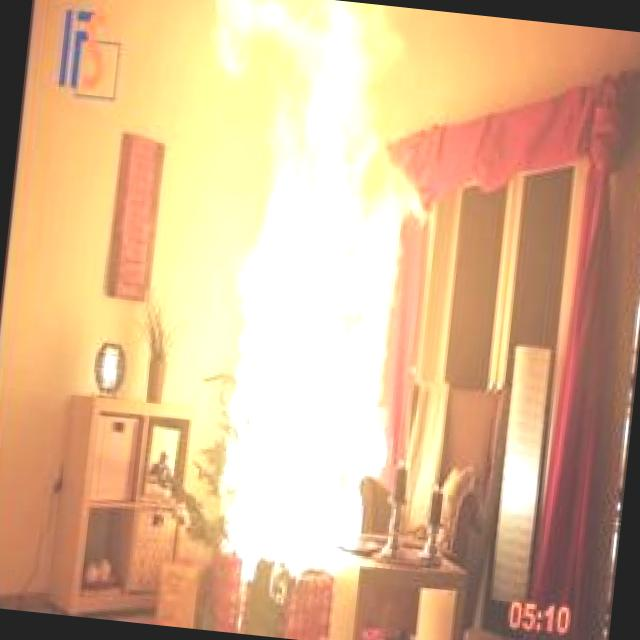fire: (133, 0, 454, 581)
